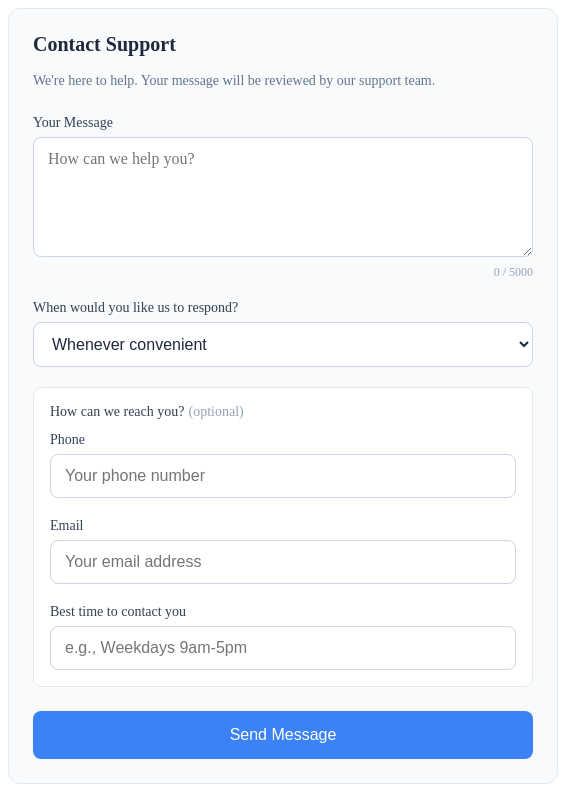
Test: SafetyContactForm › Form validation › should update character count as user types
Type "Hello" into the text box labelled "Your Message".
click(283, 197); type("Hello")  # box [33,137,533,257]
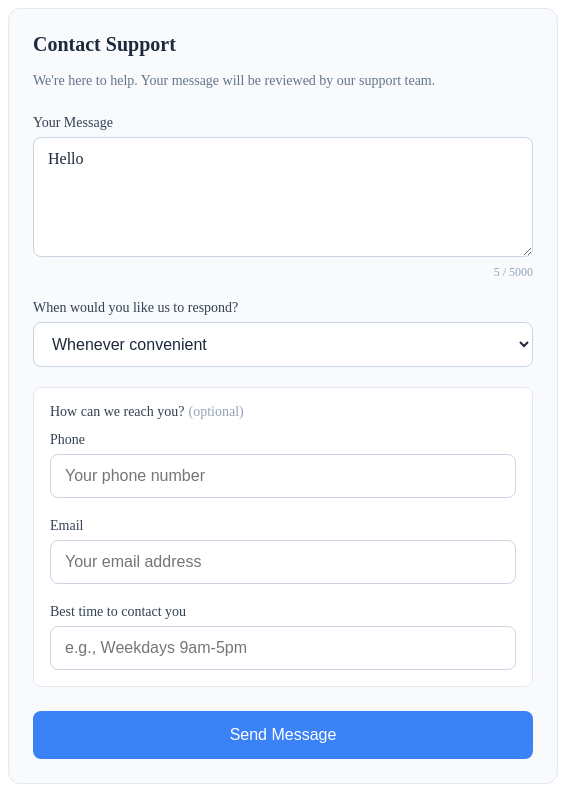
Now the text "5 / 5000" is shown, box [494,265,533,279]
